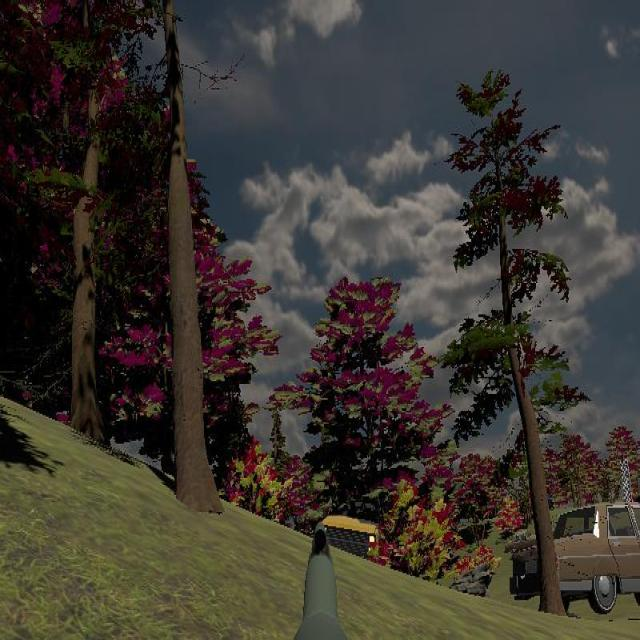car: (507, 502, 639, 614)
